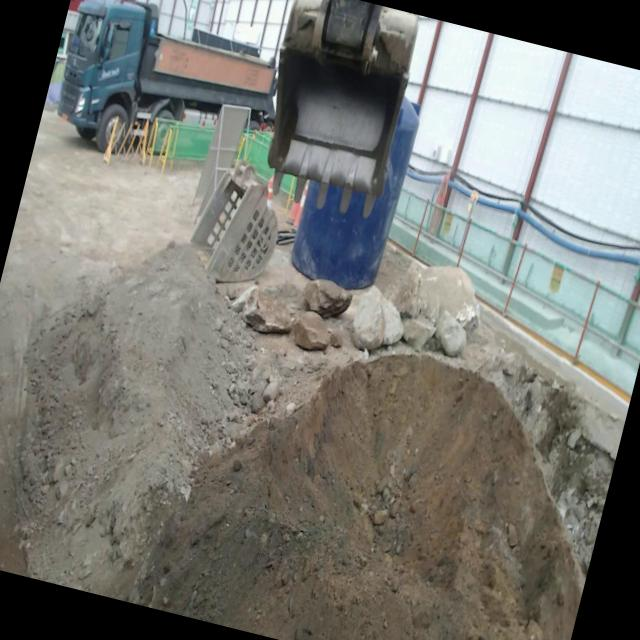cement: (481, 305, 629, 460)
red-sand: (0, 112, 582, 640)
rocks: (215, 308, 325, 413)
stone: (392, 263, 479, 356), (352, 285, 403, 349), (243, 286, 296, 333), (303, 279, 352, 317), (292, 311, 330, 350)
